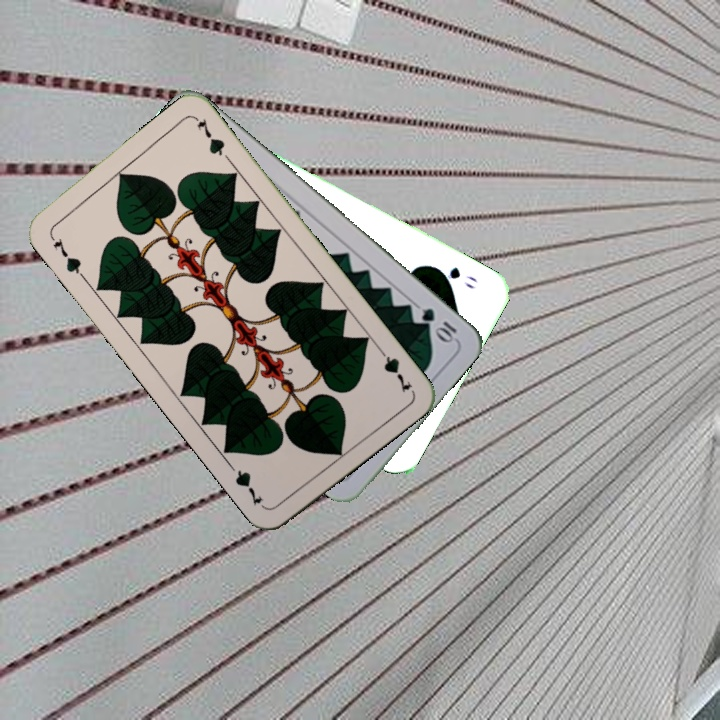G10: (417, 303, 460, 345)
G7: (373, 342, 415, 395), (46, 231, 87, 281)
GO: (430, 262, 479, 292)
